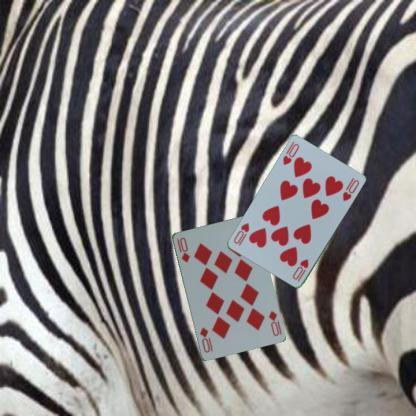10d: (174, 234, 191, 264), (266, 308, 282, 337)
10h: (290, 256, 310, 284), (280, 141, 300, 166)
